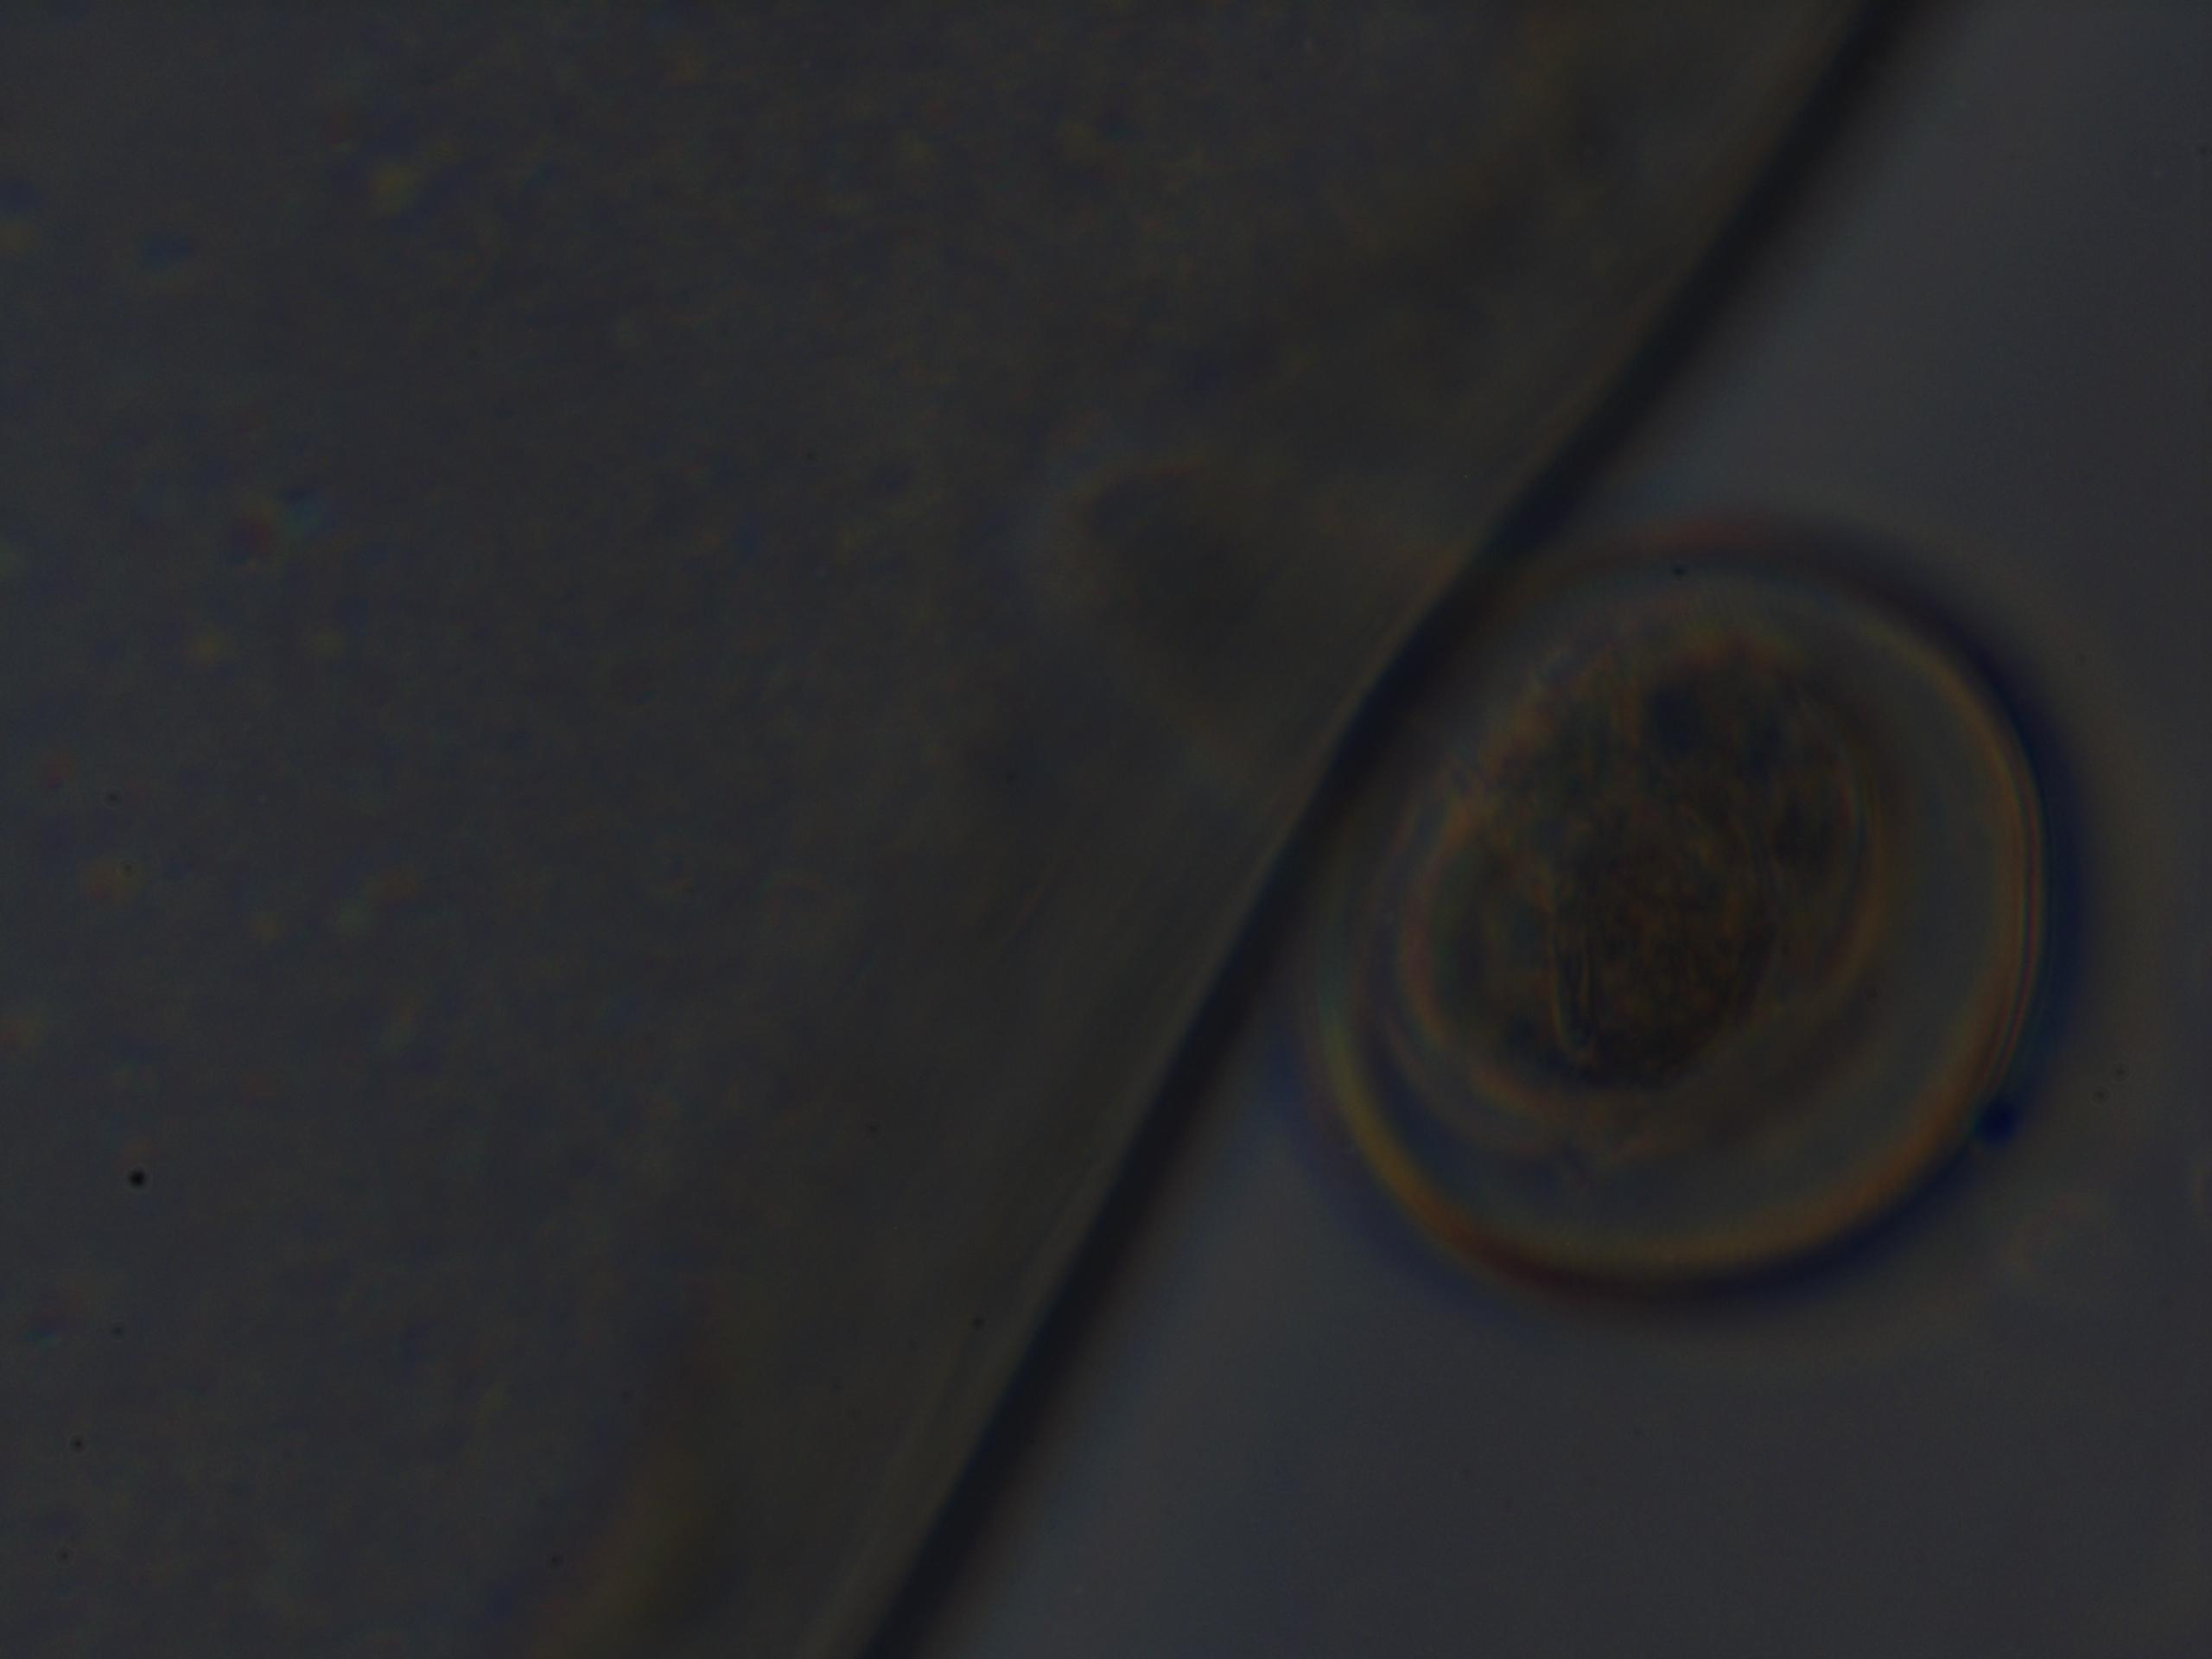protozoa: (1238, 493, 2181, 1373)
